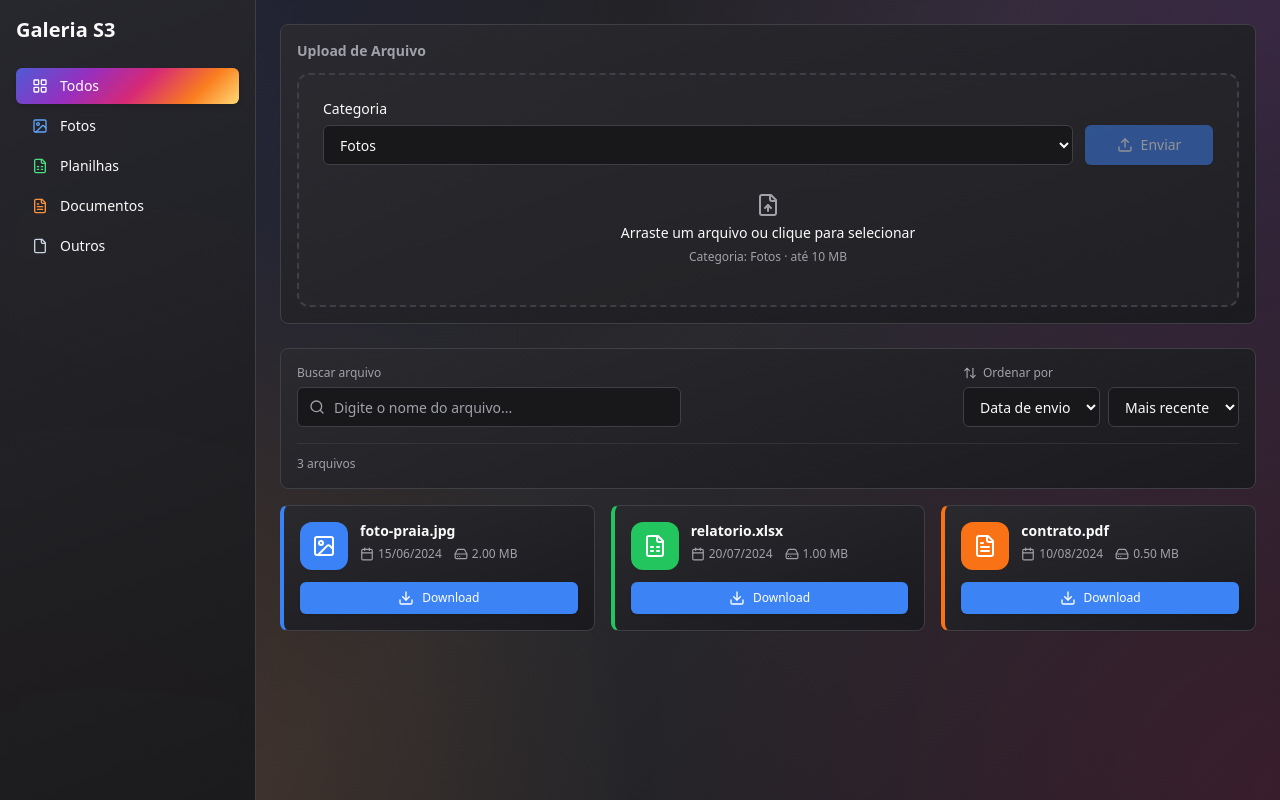
Integration Tests - Galeria S3 › Filter flow › clicar categoria → loading → lista filtrada
The image size is (1280, 800).
Expected: the text "foto-praia.jpg" is shown, [360,521,456,540]
Expected: the text "relatorio.xlsx" is shown, [691,521,783,540]
Clica no filtro "Fotos"
Step 1. Click the button "Fotos" → (128, 126), box [16,108,239,144]
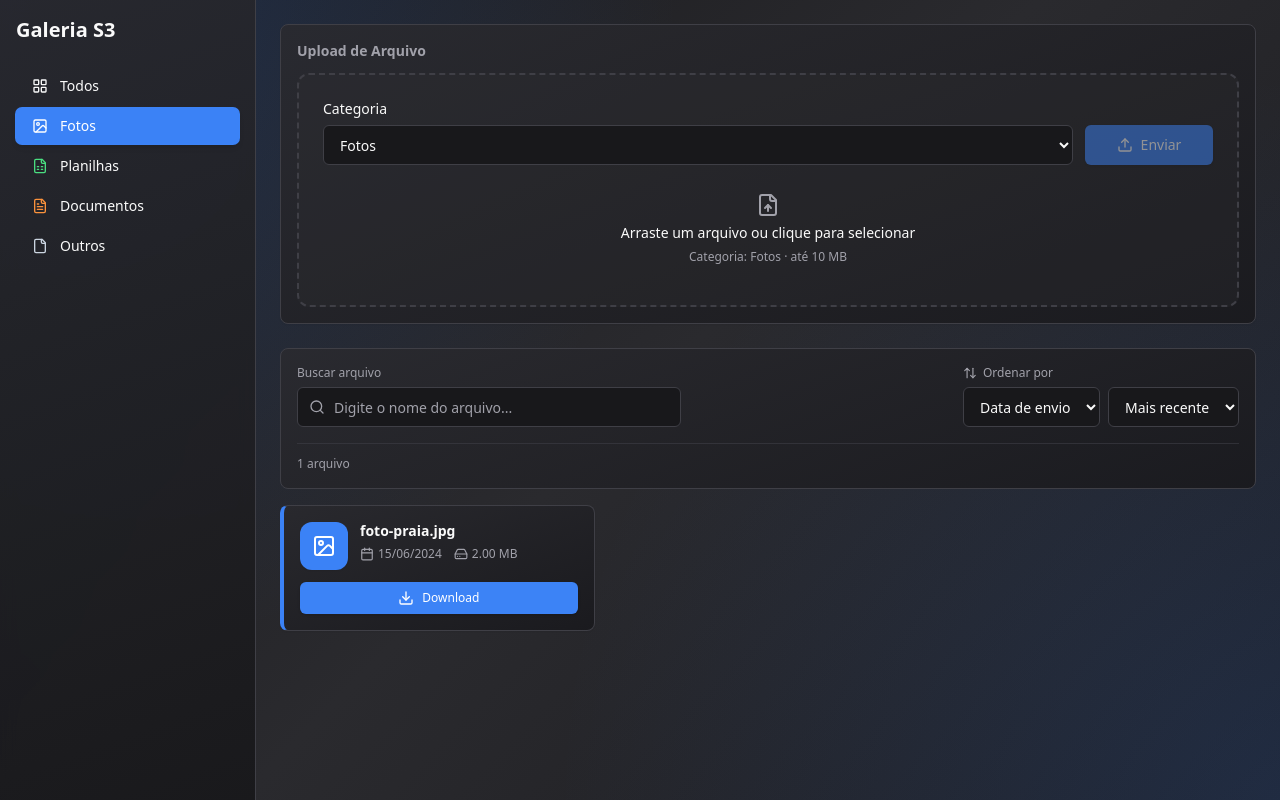
Expected: the text "foto-praia.jpg" is shown, [360,521,456,540]
Now the text "relatorio.xlsx" is gone
Now the text "contrato.pdf" is gone
